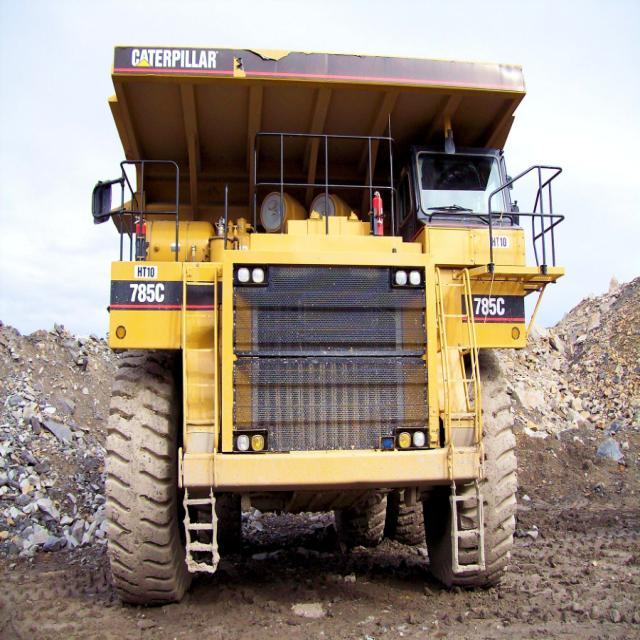dump_truck: (85, 28, 560, 610)
